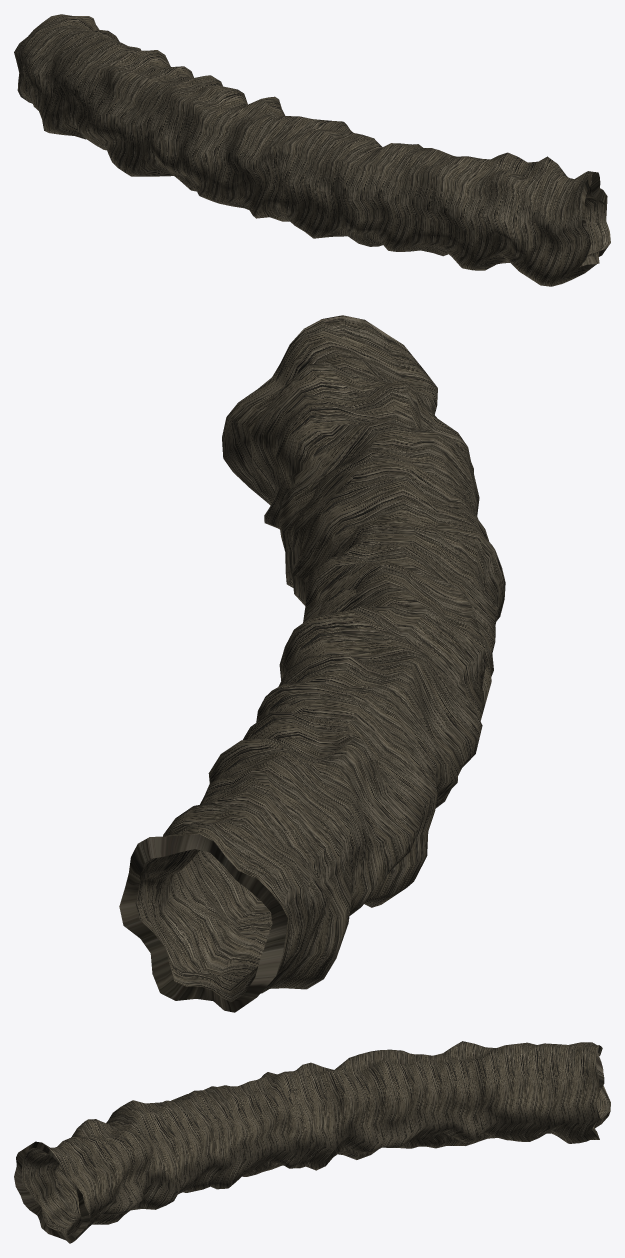
File: jaskinia.obj
The picture shows the model from 3 angles, top to bottom: view 1: azimuth 30°, elevation 25°; view 2: azimuth 150°, elevation 25°; view 3: azimuth 270°, elevation 25°; orthographic projection. The views are drawn at different scales.
Parts seen in each view (by area): view 1: Tube01; view 2: Tube01; view 3: Tube01.
Part boxes in pixels (x1,y1,x2,y2): Tube01: (14,14,610,286); Tube01: (119,315,505,1012); Tube01: (14,1041,610,1243).
Bounding box in the file's own units: 861 × 281 × 1538.
Materials: 1 (1 with a texture image).
